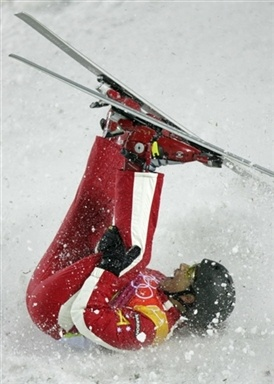falling: (14, 77, 254, 343)
